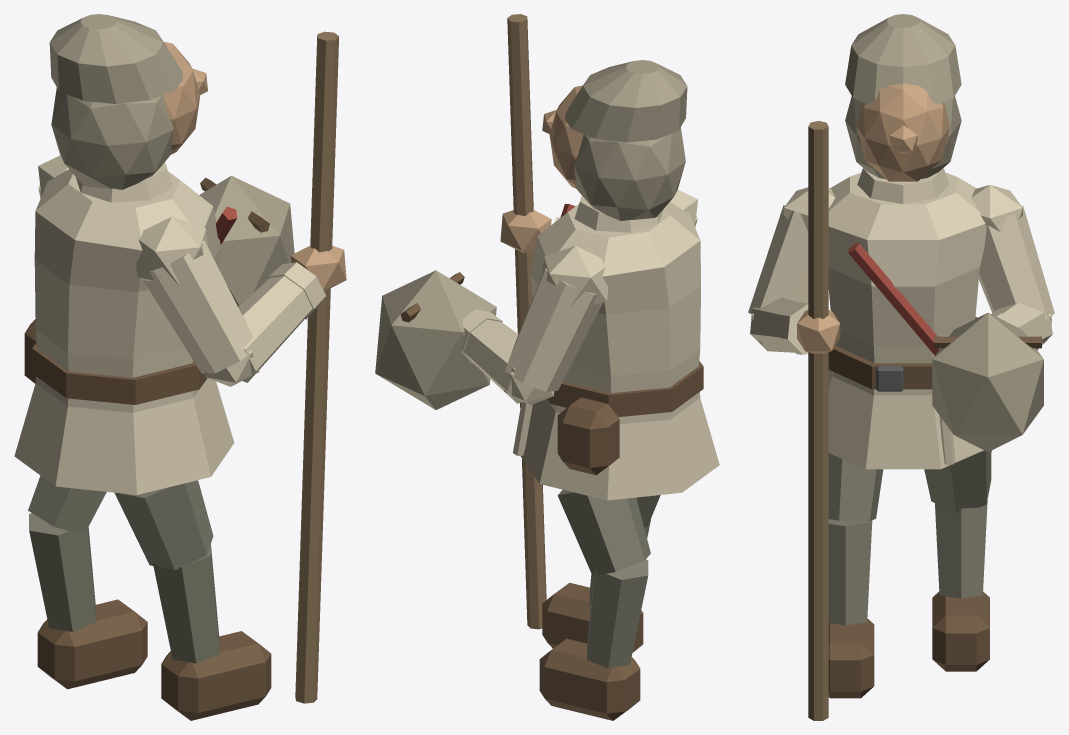
Rendered from civilian_adult.glb.
The picture shows the model from 3 angles, left to right: view 1: azimuth 30°, elevation 25°; view 2: azimuth 150°, elevation 25°; view 3: azimuth 270°, elevation 25°; orthographic projection. The views are drawn at different scales.
Parts seen in each view (by area): view 1: civilian_adult_linen, civilian_adult_padded_linen, civilian_adult_hose, civilian_adult_leather, civilian_adult_oak, civilian_adult_skin; view 2: civilian_adult_linen, civilian_adult_padded_linen, civilian_adult_leather, civilian_adult_hose, civilian_adult_oak, civilian_adult_skin; view 3: civilian_adult_linen, civilian_adult_padded_linen, civilian_adult_hose, civilian_adult_oak, civilian_adult_leather, civilian_adult_skin, civilian_adult_team_cloth, civilian_adult_iron.
Part boxes in pixels (left/top/right/bottom): civilian_adult_linen: left=14, top=155, right=325, bottom=494; civilian_adult_padded_linen: left=49, top=14, right=294, bottom=306; civilian_adult_hose: left=28, top=475, right=219, bottom=663; civilian_adult_leather: left=24, top=177, right=271, bottom=720; civilian_adult_oak: left=295, top=31, right=339, bottom=703; civilian_adult_skin: left=163, top=42, right=346, bottom=290; civilian_adult_linen: left=460, top=189, right=719, bottom=500; civilian_adult_padded_linen: left=375, top=60, right=687, bottom=409; civilian_adult_leather: left=400, top=272, right=703, bottom=720; civilian_adult_hose: left=557, top=490, right=660, bottom=668; civilian_adult_oak: left=507, top=14, right=546, bottom=629; civilian_adult_skin: left=480, top=85, right=583, bottom=309; civilian_adult_linen: left=748, top=168, right=1054, bottom=469; civilian_adult_padded_linen: left=845, top=14, right=1043, bottom=452; civilian_adult_hose: left=828, top=450, right=991, bottom=625; civilian_adult_oak: left=808, top=121, right=828, bottom=720; civilian_adult_leather: left=828, top=317, right=1041, bottom=698; civilian_adult_skin: left=797, top=83, right=950, bottom=353; civilian_adult_team_cloth: left=848, top=243, right=939, bottom=355; civilian_adult_iron: left=876, top=366, right=903, bottom=391.
Bounding box in the file's own units: 0.8258 × 1.79 × 0.7956.
